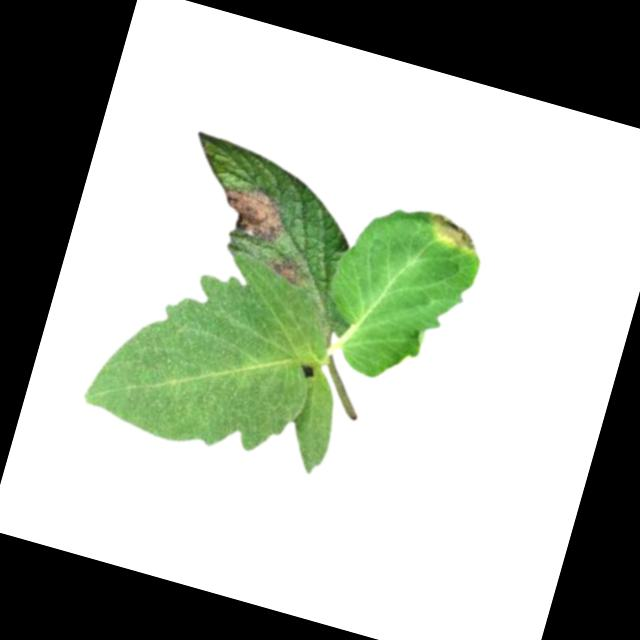Late_blight: (212, 178, 293, 249), (423, 209, 486, 257), (263, 252, 307, 288)
healthy: (78, 221, 351, 477)
